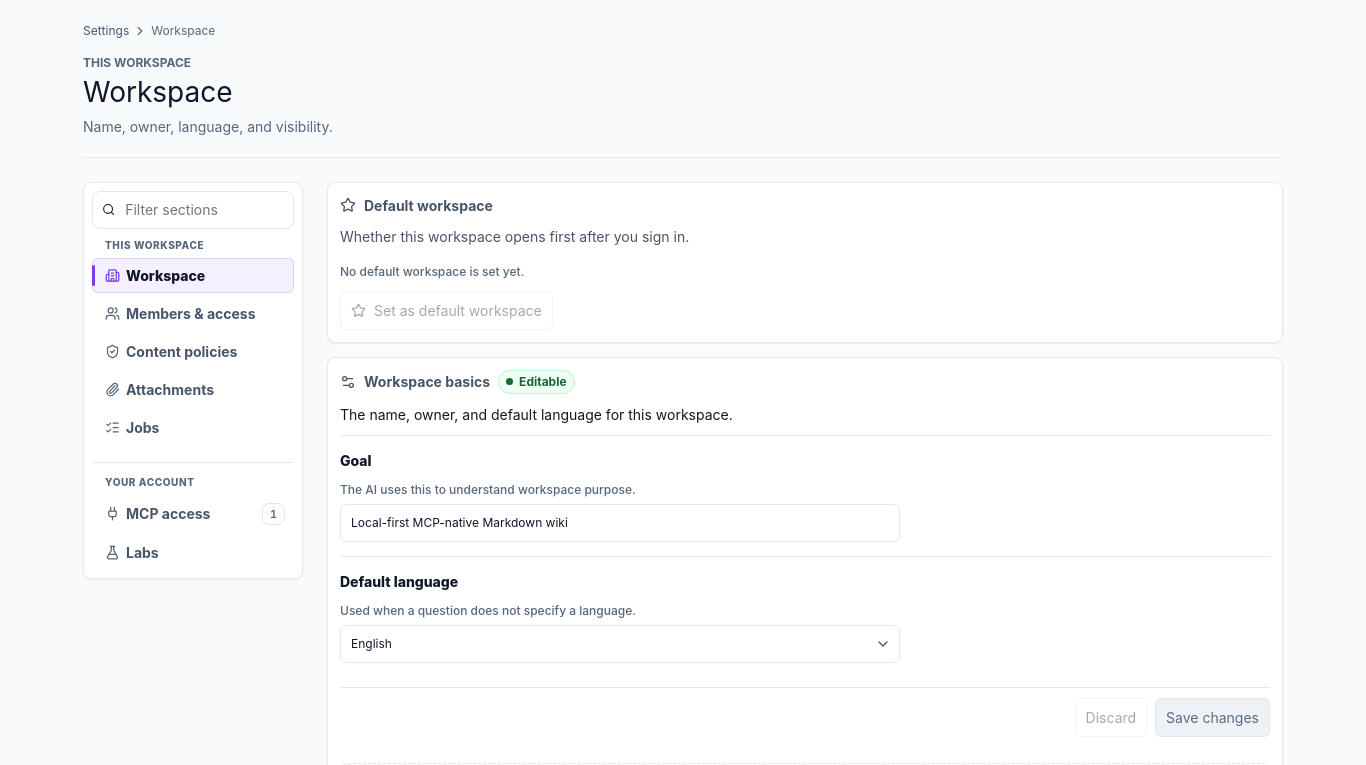
Test: SettingsScreen › confirms MCP client disabling and updates the status projection
expect the heading "Workspace" is shown: met, box [83,75,232,109]
Step 1. Click the button "MCP access 1" → (193, 513), box [92,495,294,532]
(page scrolled)
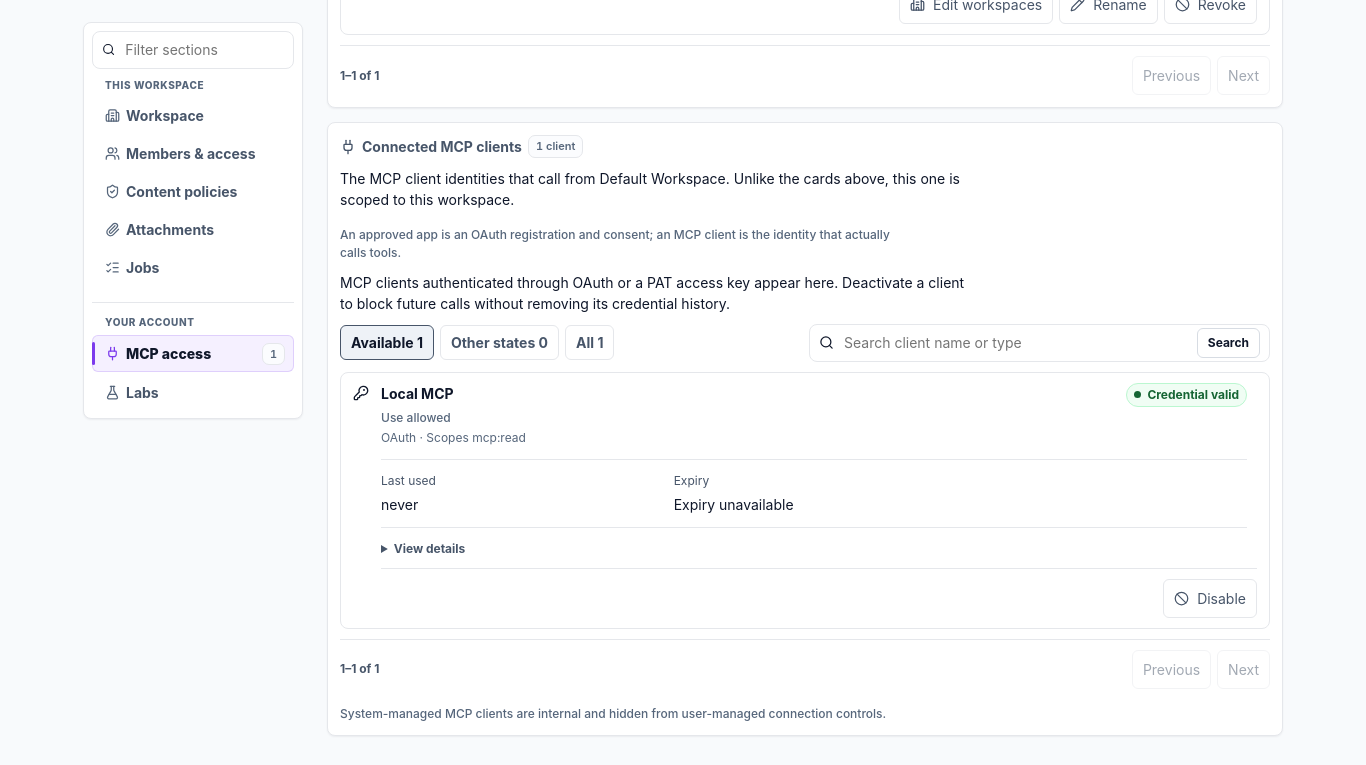
expect the text "Local MCP" is shown: met, box [381,383,454,404]
expect the text "Connected MCP clients" is shown: met, box [362,136,522,157]
// A39: the row Disable now opens a confirm before the PATCH fires.
Step 2. Click the button "Disable " → (1210, 598), box [1163,579,1257,618]
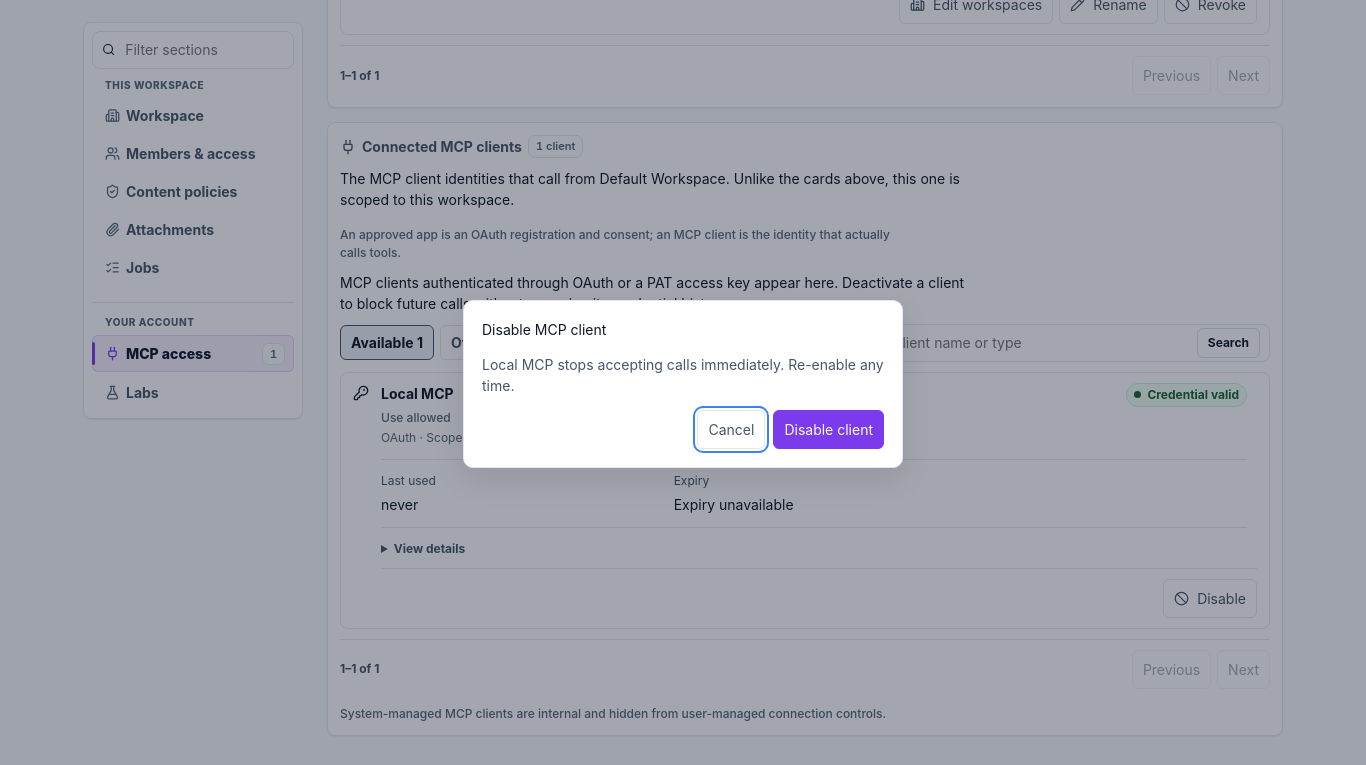
expect the text "Local MCP stops accepting calls immediately" is shown: met, box [482,356,884,394]
// Cancel closes the confirm without issuing the status PATCH.
Step 3. Click the button "Cancel" → (731, 430), box [698,410,765,449]
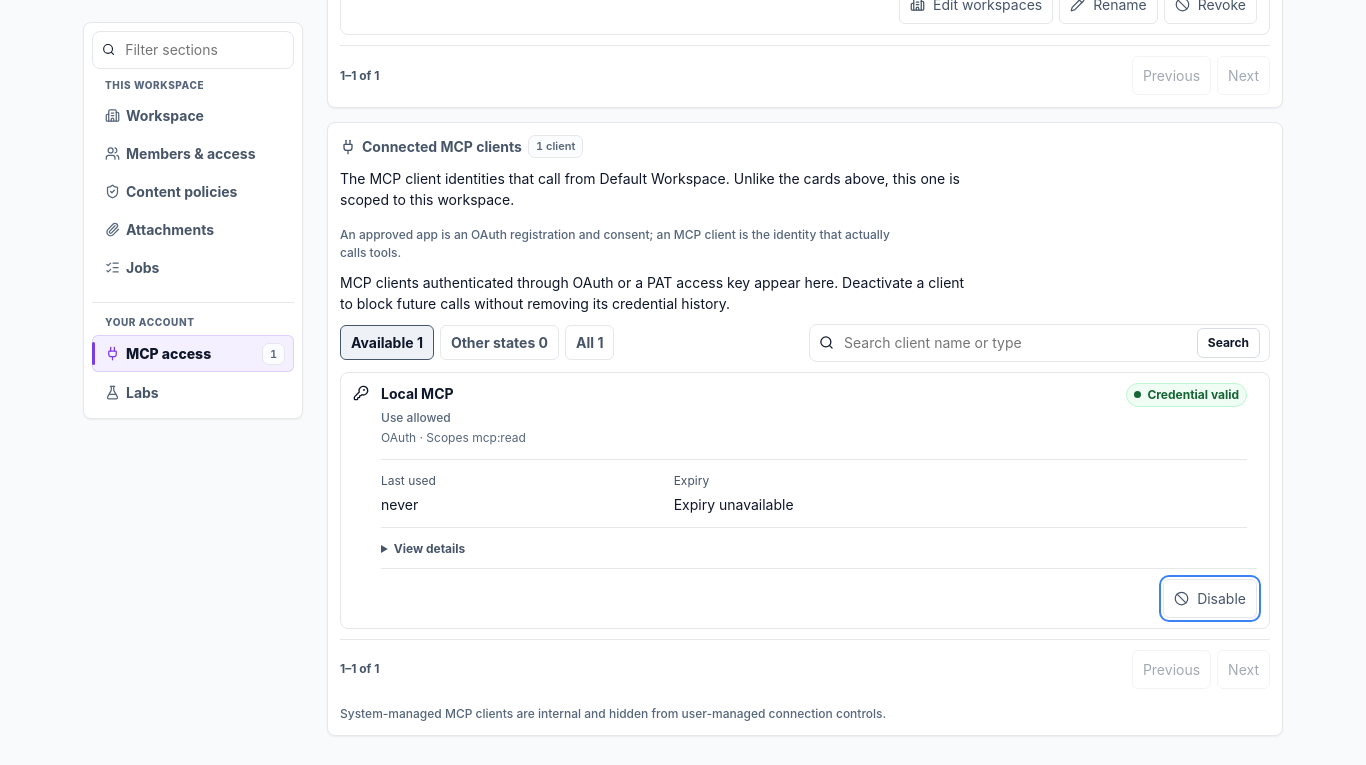
expect the heading "Disable MCP client" is gone: met
// Reopen and confirm: the default Active projection removes the row.
Step 4. Click the button "Disable " → (1210, 598), box [1163,579,1257,618]
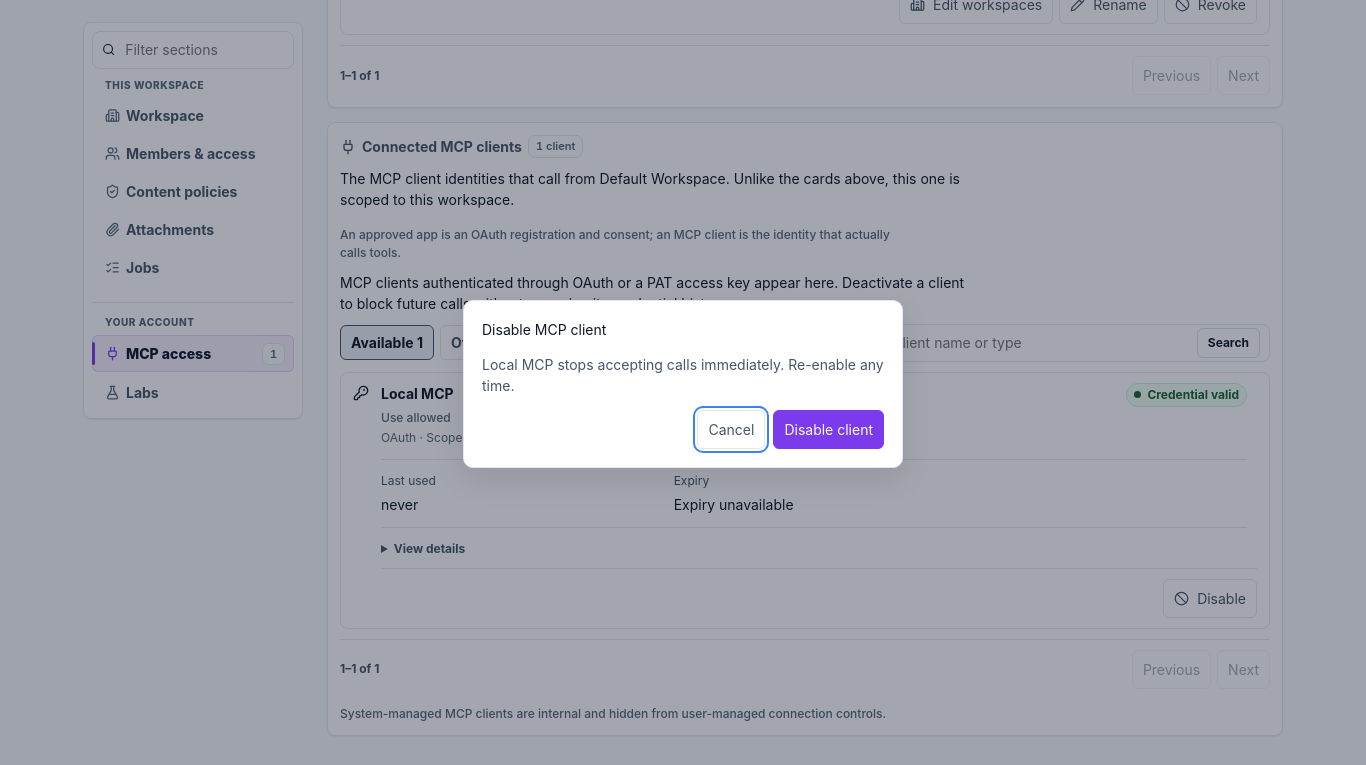
Step 5. Click the button "Disable client" → (829, 430), box [773,410,884,449]
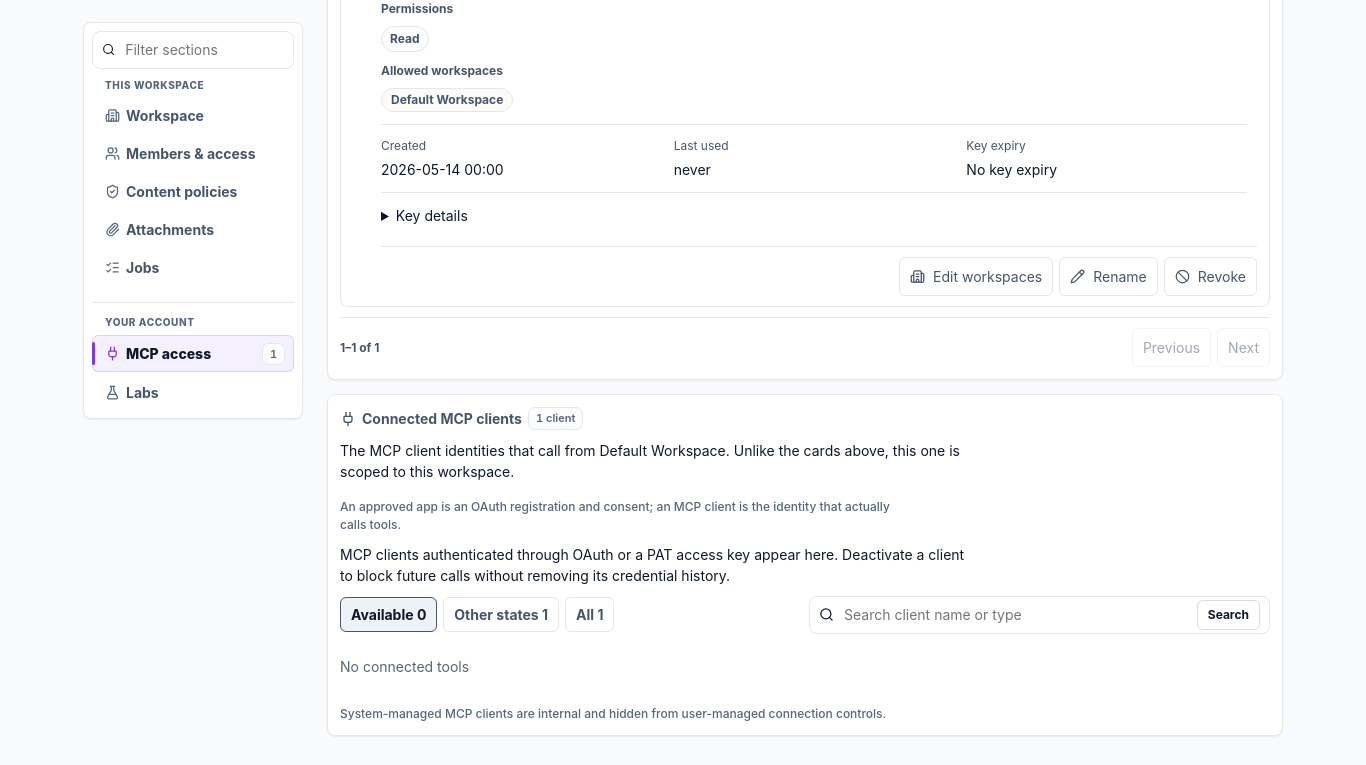
Step 6. Click the radio button labelled "Other states 1" → (501, 615), box [443,597,559,632]
(page scrolled)
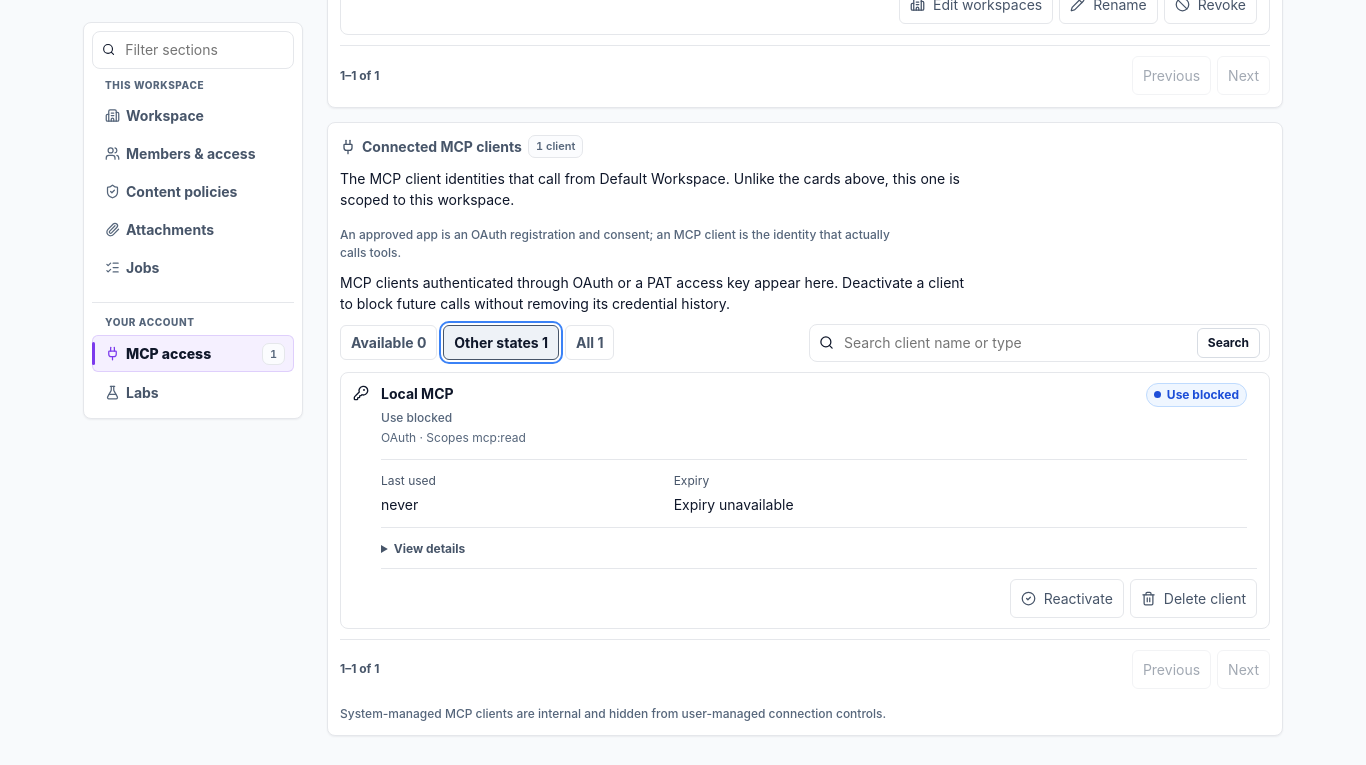
expect the button "Reactivate " is shown: met, box [1010,579,1124,618]
